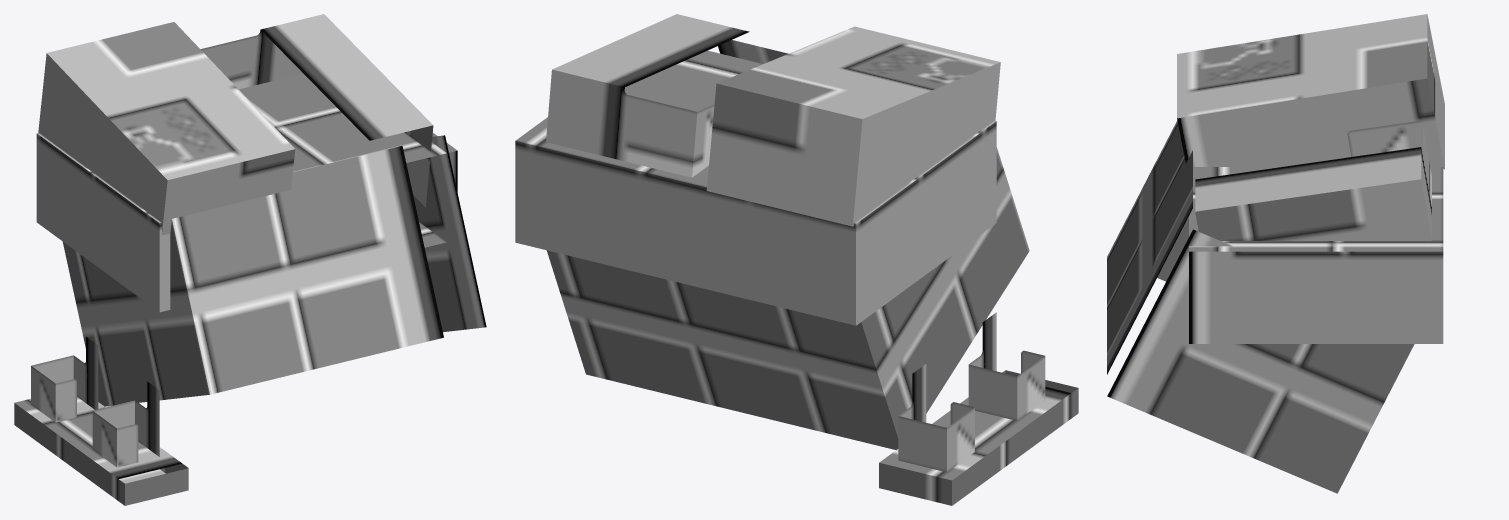
The model's file is dna_synthesizer.obj.
3 views of the same model, side by side, from view 1: azimuth 30°, elevation 25°; view 2: azimuth 150°, elevation 25°; view 3: azimuth 270°, elevation 25° (orthographic). The views are drawn at different scales.
Parts seen in each view (by area): view 1: machine; view 2: machine; view 3: machine.
Boxes of the visible parts, x1,y1,x2,y2 form: machine: [14, 14, 486, 505]; machine: [515, 14, 1078, 505]; machine: [1107, 14, 1444, 493].
Bounding box in the file's own units: 1.03 × 0.9586 × 0.9532.
